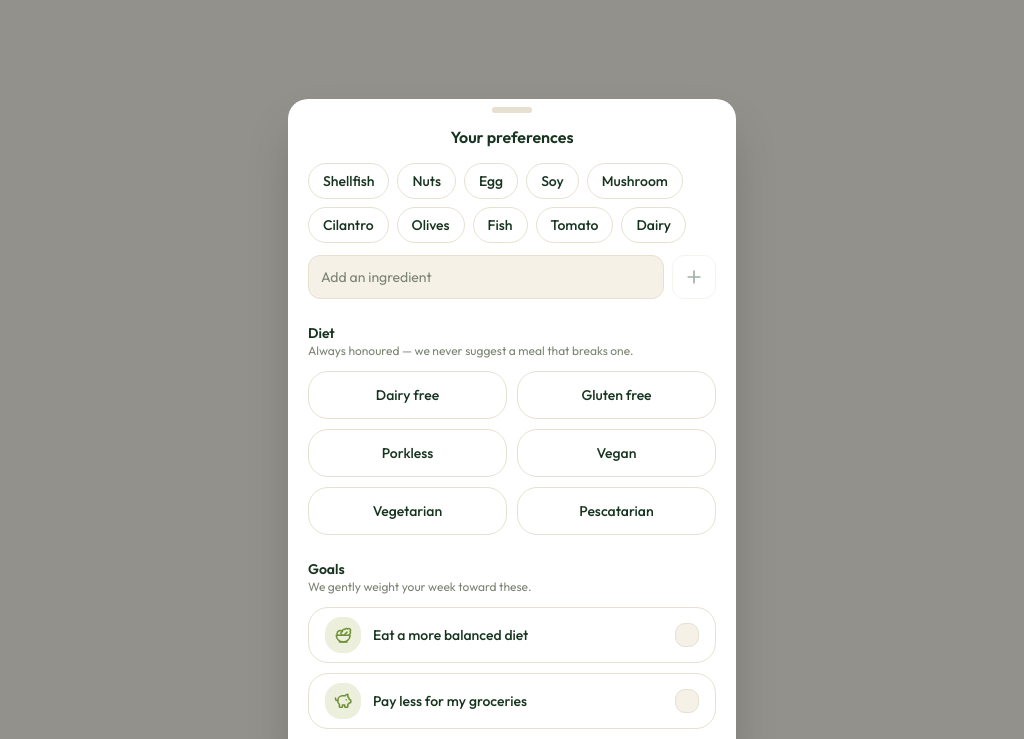
Test: PreferencesSheet autosave (#376) › shows a clear saved status after an autosave settles
The width and height of the screenshot is (1024, 739).
(page scrolled)
Click the button "Vegan" at [616, 453], box [517, 429, 716, 477]
Wait 2000 ms
(page scrolled)
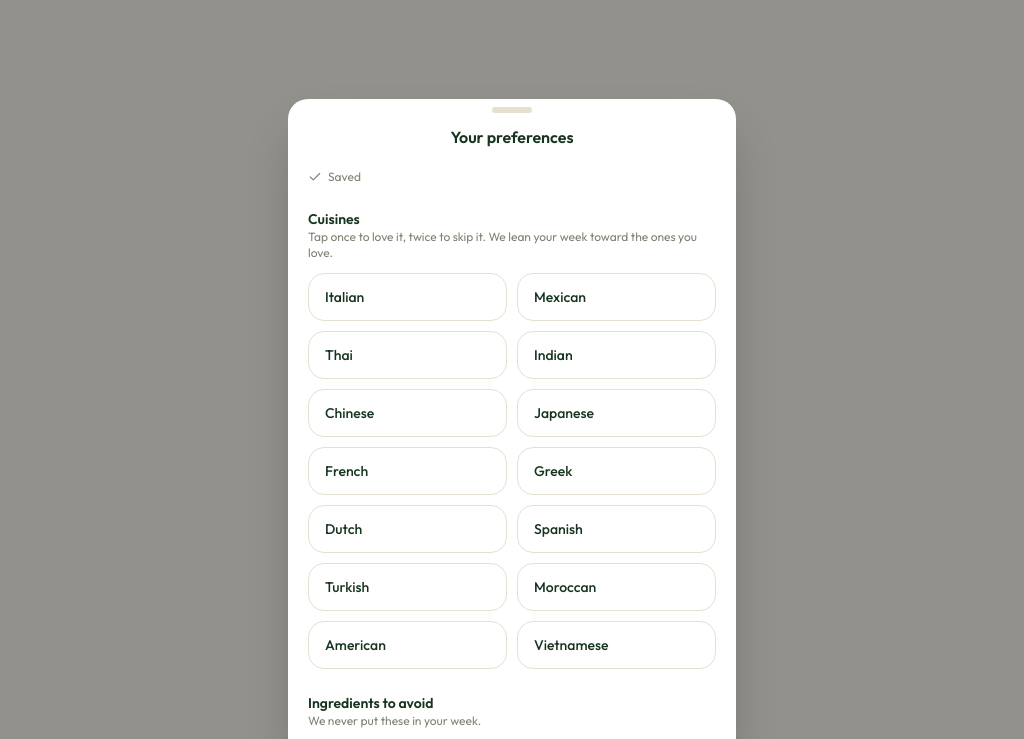
Now the text "Saved" is shown, box [308, 169, 361, 184]
